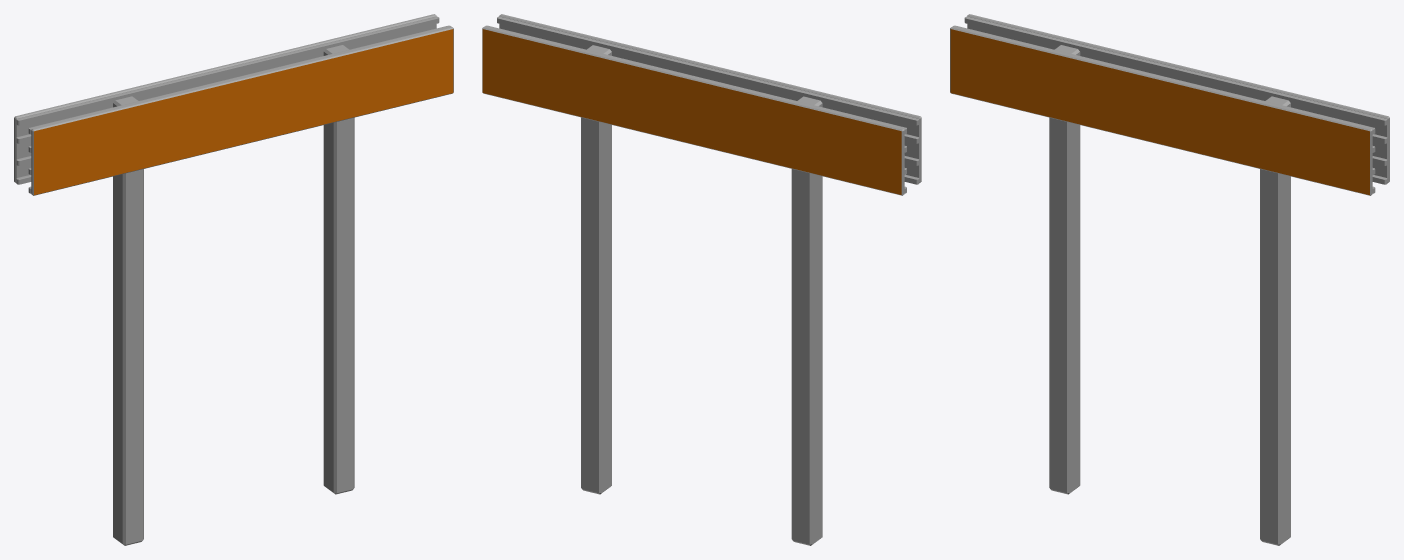
File: SM_SKylt.fbx
3 renders of one model, left to right at view 1: azimuth 30°, elevation 25°; view 2: azimuth 150°, elevation 25°; view 3: azimuth 330°, elevation 25°, orthographic.
Visible parts, largest first — view 1: Skylt; view 2: Skylt; view 3: Skylt.
Part boxes in pixels (box(x1,y1,x2,y2)): Skylt: box(14, 14, 453, 545); Skylt: box(482, 14, 921, 545); Skylt: box(950, 14, 1389, 545).
Size of the model in its own units: 200 by 201 by 16.08.
